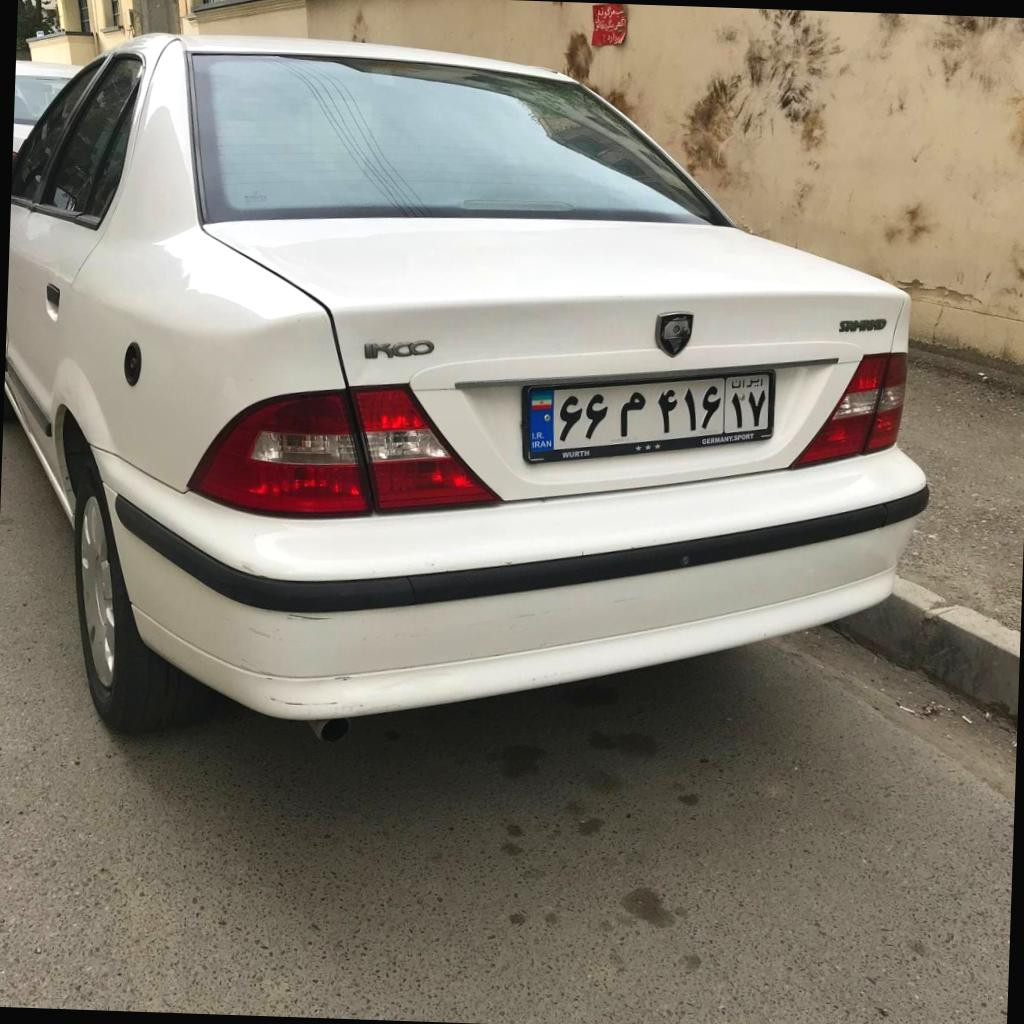Plates: (528, 372, 769, 451)
